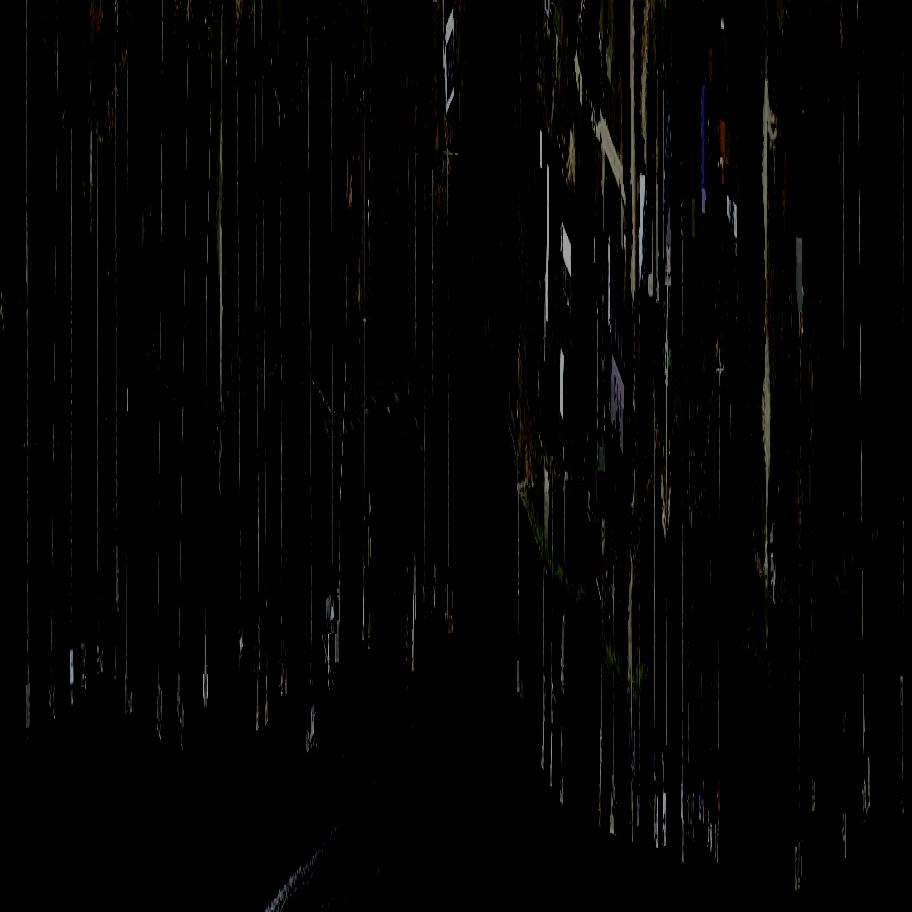ship: (650, 746, 678, 836), (647, 794, 666, 853), (322, 635, 338, 693), (600, 374, 609, 435), (676, 748, 682, 817), (710, 802, 715, 861)
small-vehicle: (630, 301, 639, 354), (566, 286, 570, 311)
